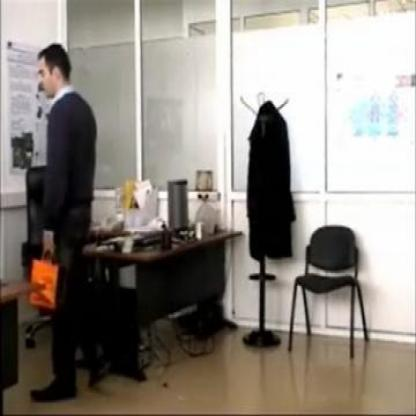other: (27, 251, 55, 307)
